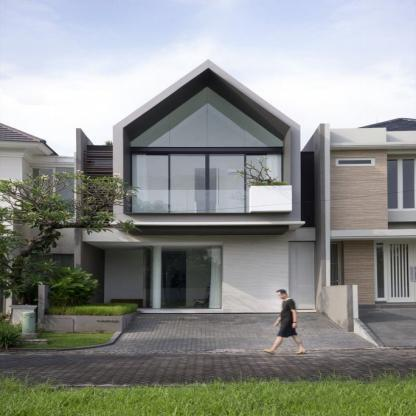Balcony: (125, 189, 292, 212)
Building Outline: (36, 58, 354, 333)
Door: (169, 154, 244, 213)
Facade: (36, 59, 354, 333)
Floor Slab: (83, 228, 316, 241)
Glass Wall: (131, 86, 283, 147), (143, 246, 222, 309), (247, 154, 283, 213), (132, 154, 168, 213), (289, 242, 316, 310)
Window: (95, 161, 112, 167)
